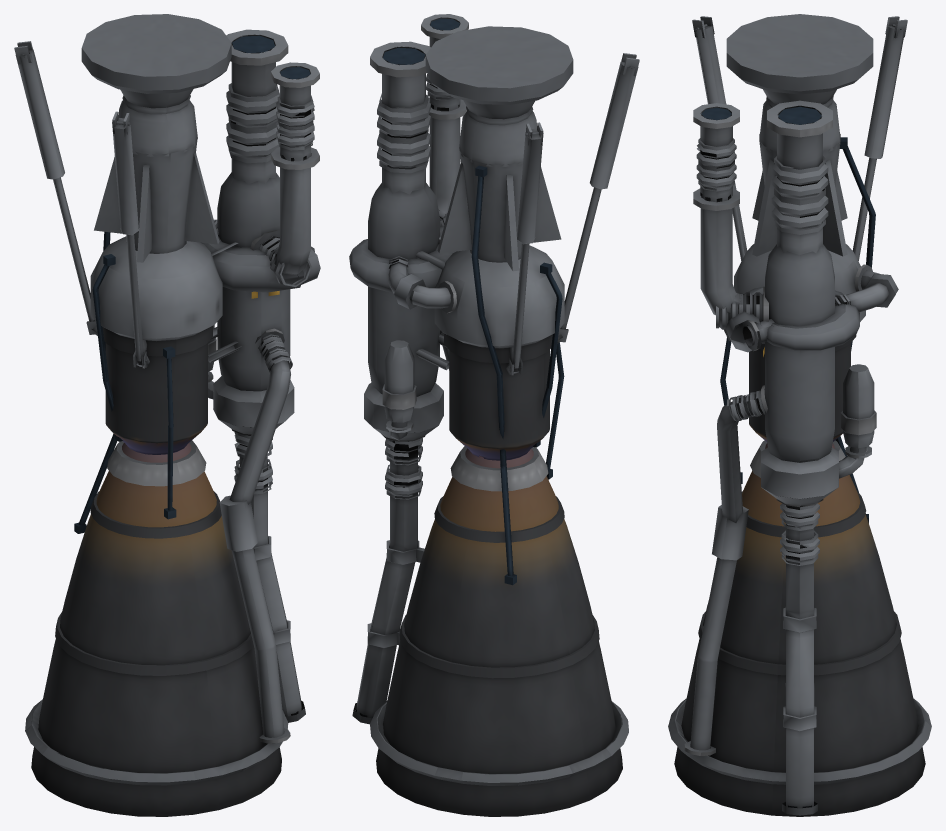
File: eng_kerolox_workhorse.glb
3 renders of one model, left to right at view 1: azimuth 30°, elevation 25°; view 2: azimuth 150°, elevation 25°; view 3: azimuth 270°, elevation 25°, orthographic.
Visible parts, largest first — view 1: eng_kerolox_workhorse_mesh; view 2: eng_kerolox_workhorse_mesh; view 3: eng_kerolox_workhorse_mesh.
Boxes of the visible parts, <box> form: eng_kerolox_workhorse_mesh: <box>14,14,320,816</box>; eng_kerolox_workhorse_mesh: <box>349,14,639,816</box>; eng_kerolox_workhorse_mesh: <box>668,14,931,816</box>.
Size of the model in its own units: 1.11 by 2.9 by 0.9657.
1 material, 1 textured.
